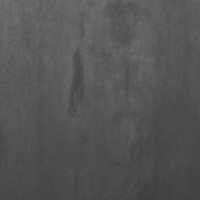inclusion: (60, 39, 91, 125), (116, 50, 139, 112)
